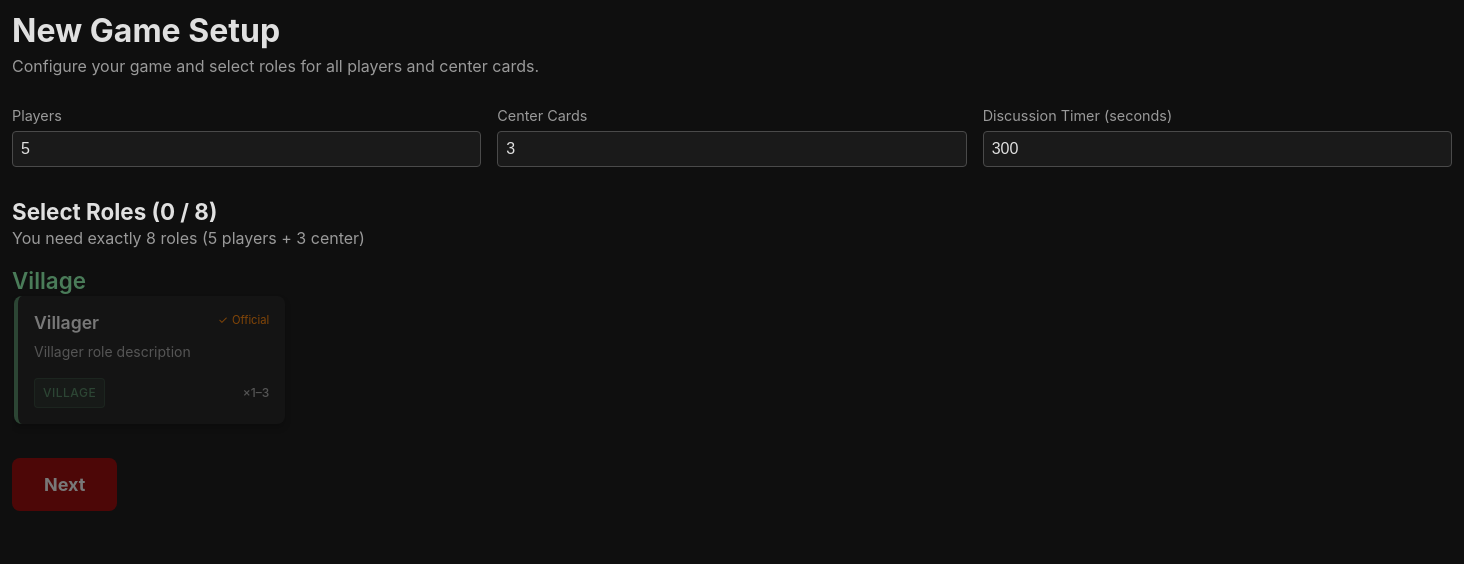
Test: GameSetupPage › multi-copy role selection › - at min_count removes role entirely
Click the text "Villager".
click(150, 360)  # box x1=12 y1=294 x2=287 y2=426
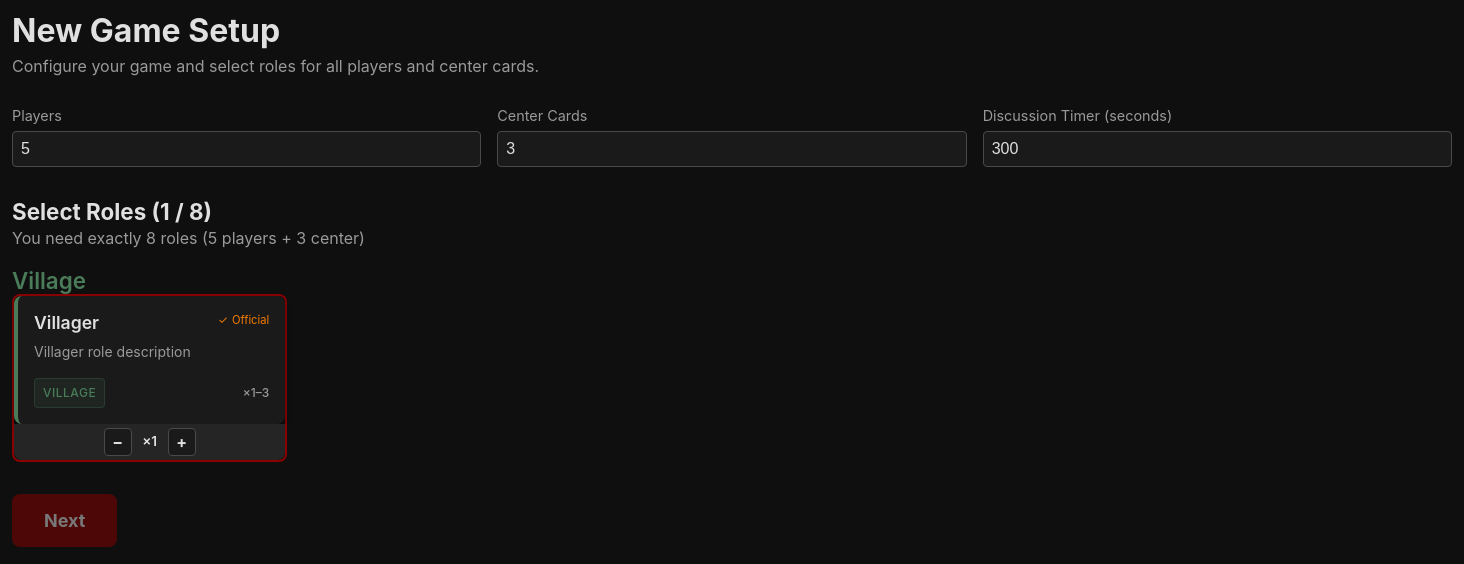
Click the button named "Decrease Villager count".
click(118, 442)  # box x1=104 y1=428 x2=132 y2=456
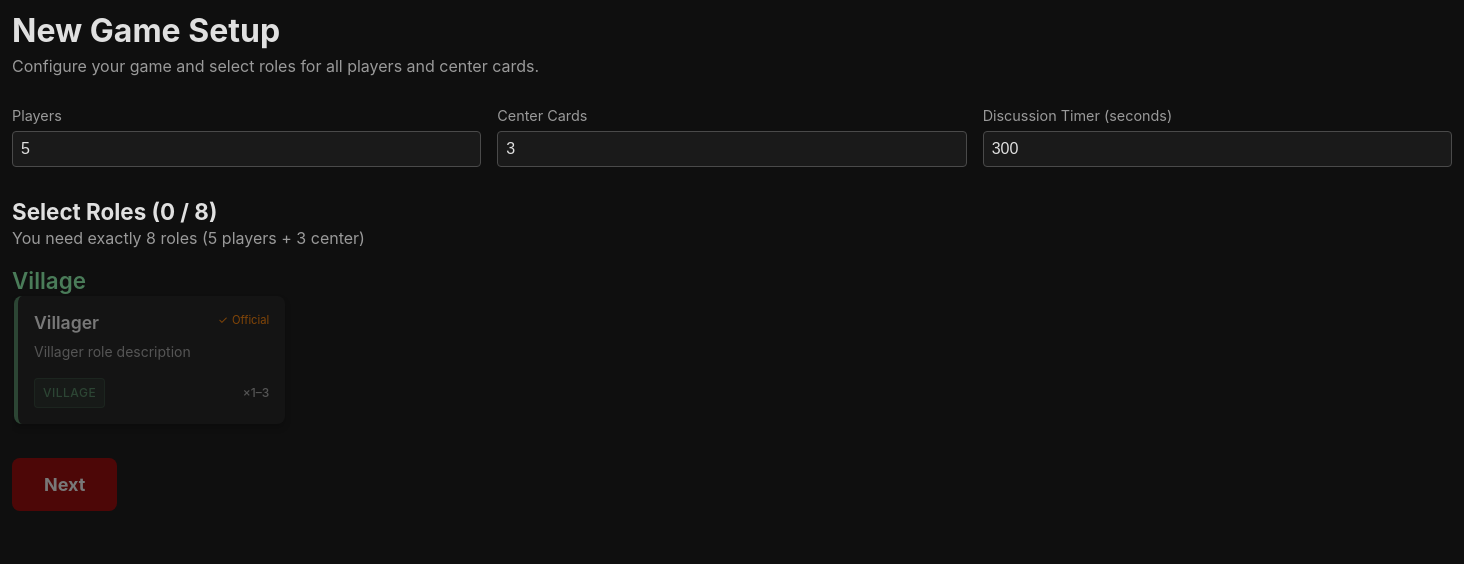
expect the heading "Select Roles (0 / 8)" is shown: met, box x1=12 y1=198 x2=217 y2=225
